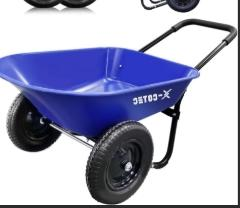BROUETTE: (0, 13, 237, 205)
